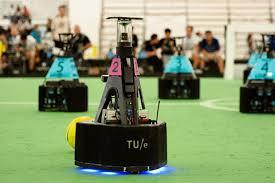robot: (75, 13, 169, 174), (34, 28, 90, 115), (152, 34, 204, 101), (237, 38, 275, 116)
